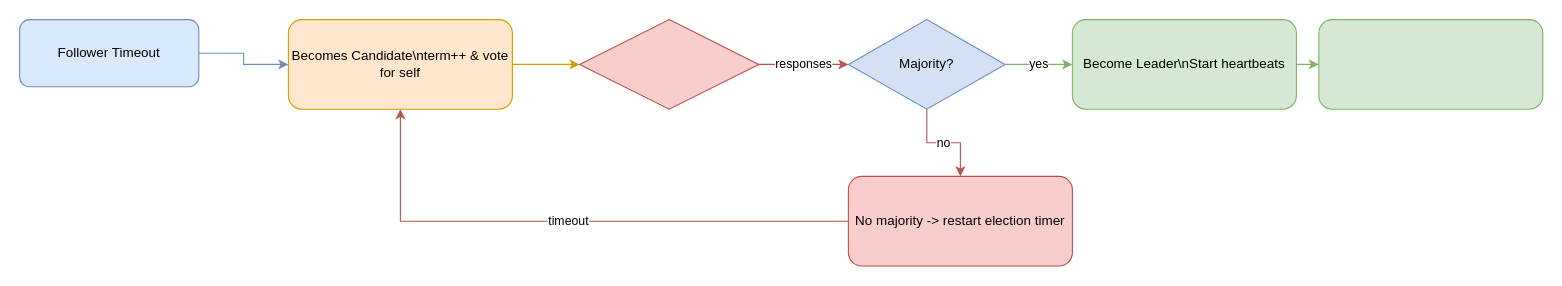
This 1562x286 diagram has some shape labels left out. The shapes that lost their labels are listed below. From the top down, each one's centre as x and y in pixels, then its label:
At point 668,63: "RequestVote RPC".
At point 1430,63: "AppendEntries heartbeat".
